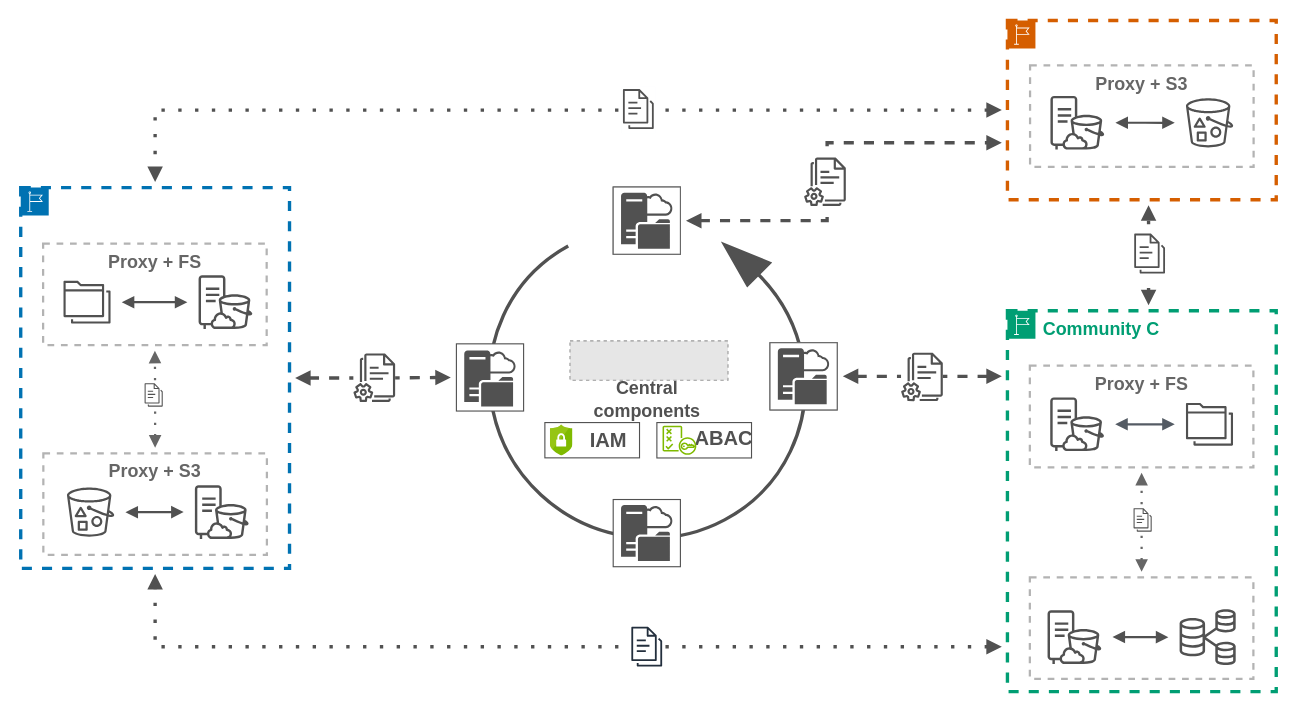
The diagram is 1297 pixels wide and 713 high, and some of its shapes have lost their labels. Grey dashed boxes stand in for pictures. Here are the shapes that lost their labels. From the top down, the box of each, then its label:
(1005, 18, 1277, 201): Community A
(18, 185, 291, 570): Community B
(1028, 576, 1254, 680): Proxy + Archive
